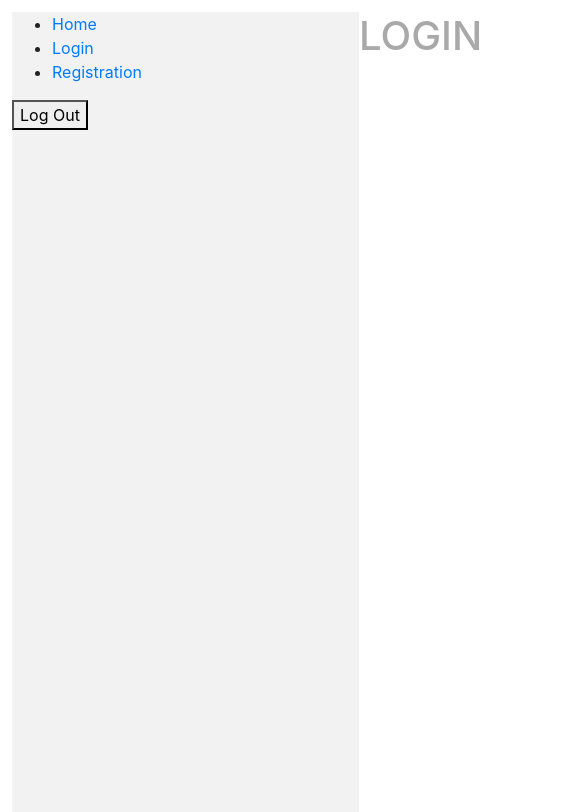
Test: Menu › Registration page › Registration Page Renders
Click the link with test id "Registration" at (97, 72), box [52, 62, 142, 82]
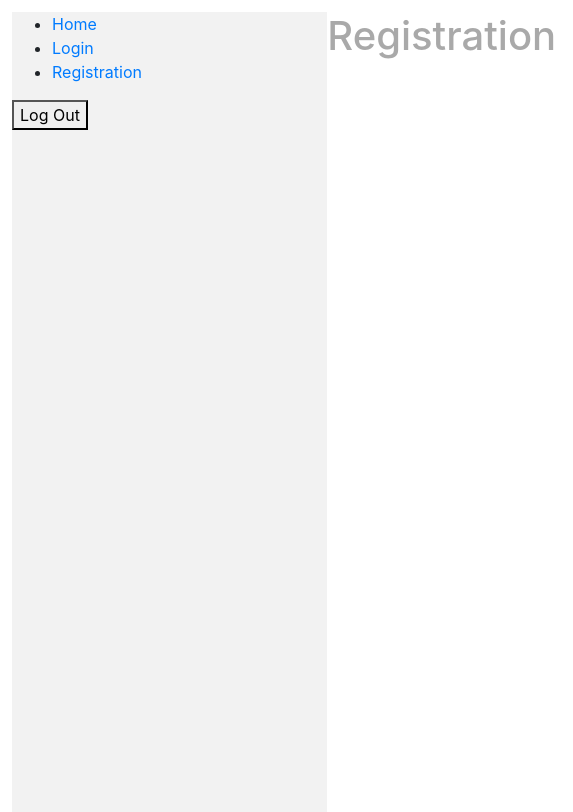
Check: the heading with test id "registration-page" reads "Registration", box [327, 11, 556, 60]
